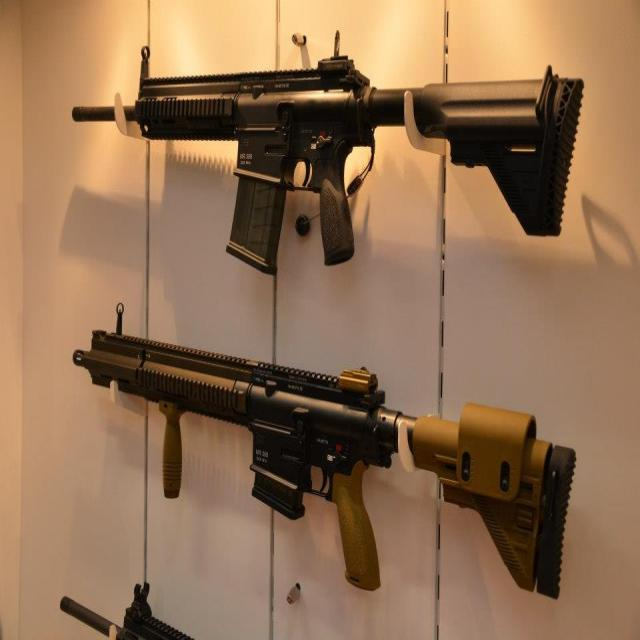firearm: (74, 303, 576, 601), (73, 31, 585, 276)
